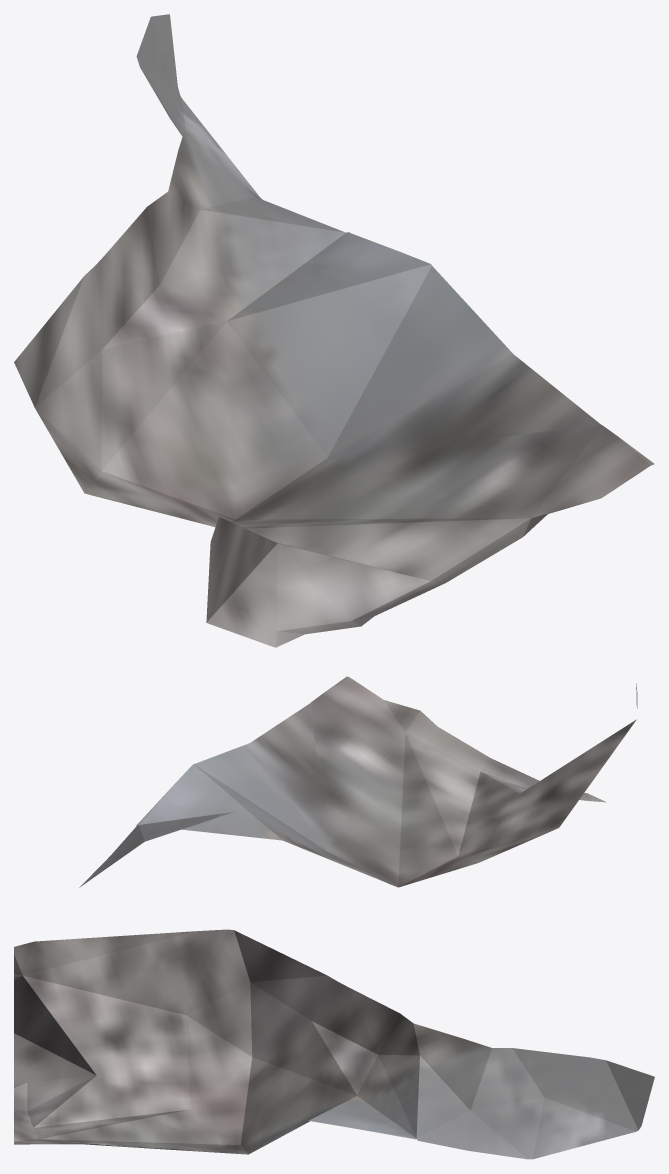
3 views of the same model, one above another, from view 1: azimuth 30°, elevation 25°; view 2: azimuth 150°, elevation 25°; view 3: azimuth 270°, elevation 25° (orthographic). The views are drawn at different scales.
Size of the model in its own units: 0.1388 by 0.0603 by 0.2462.
1 material, 1 textured.
